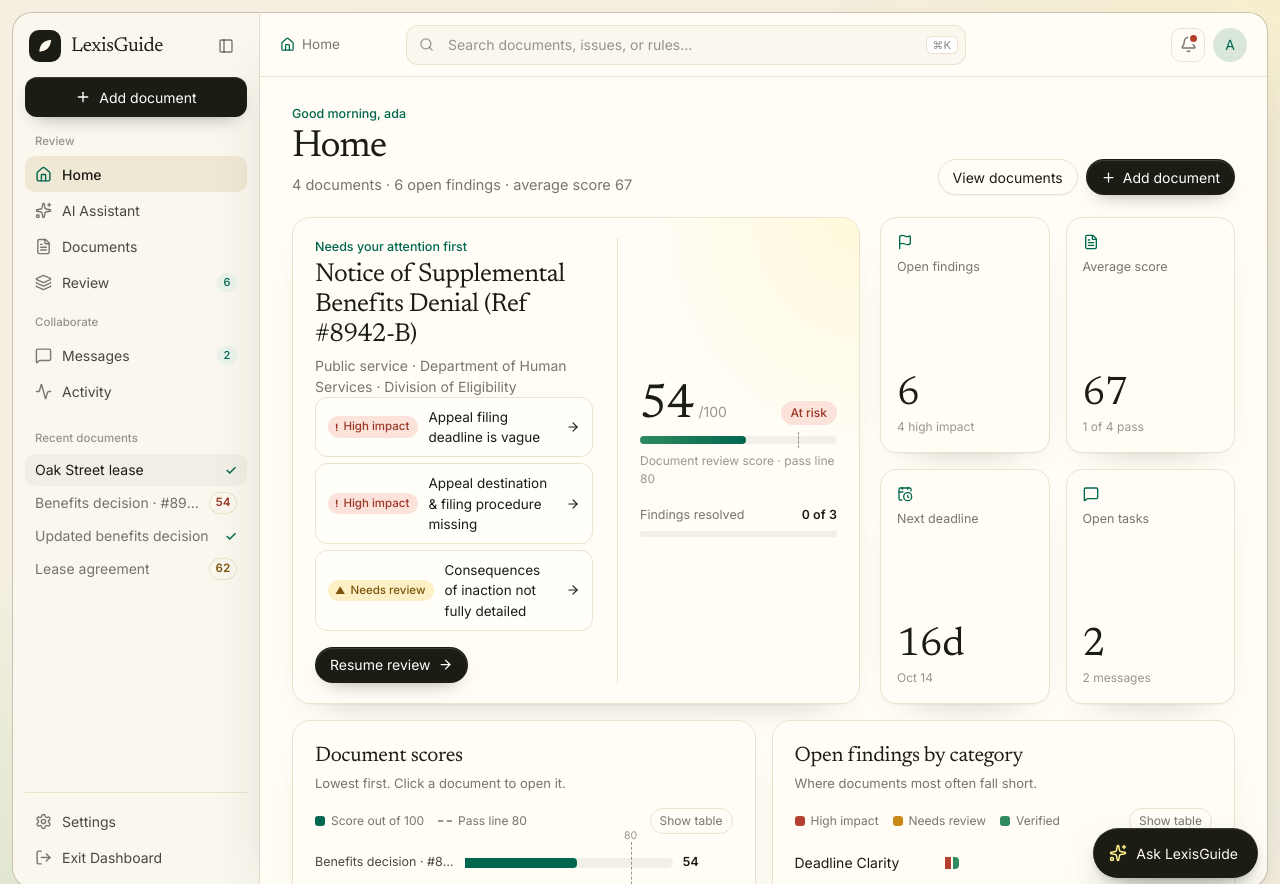
Saved workspace › reopens the workspace where the person left off
The image size is (1280, 884).
Click the button "Review 6" at (136, 282), box [25,264,247,300]
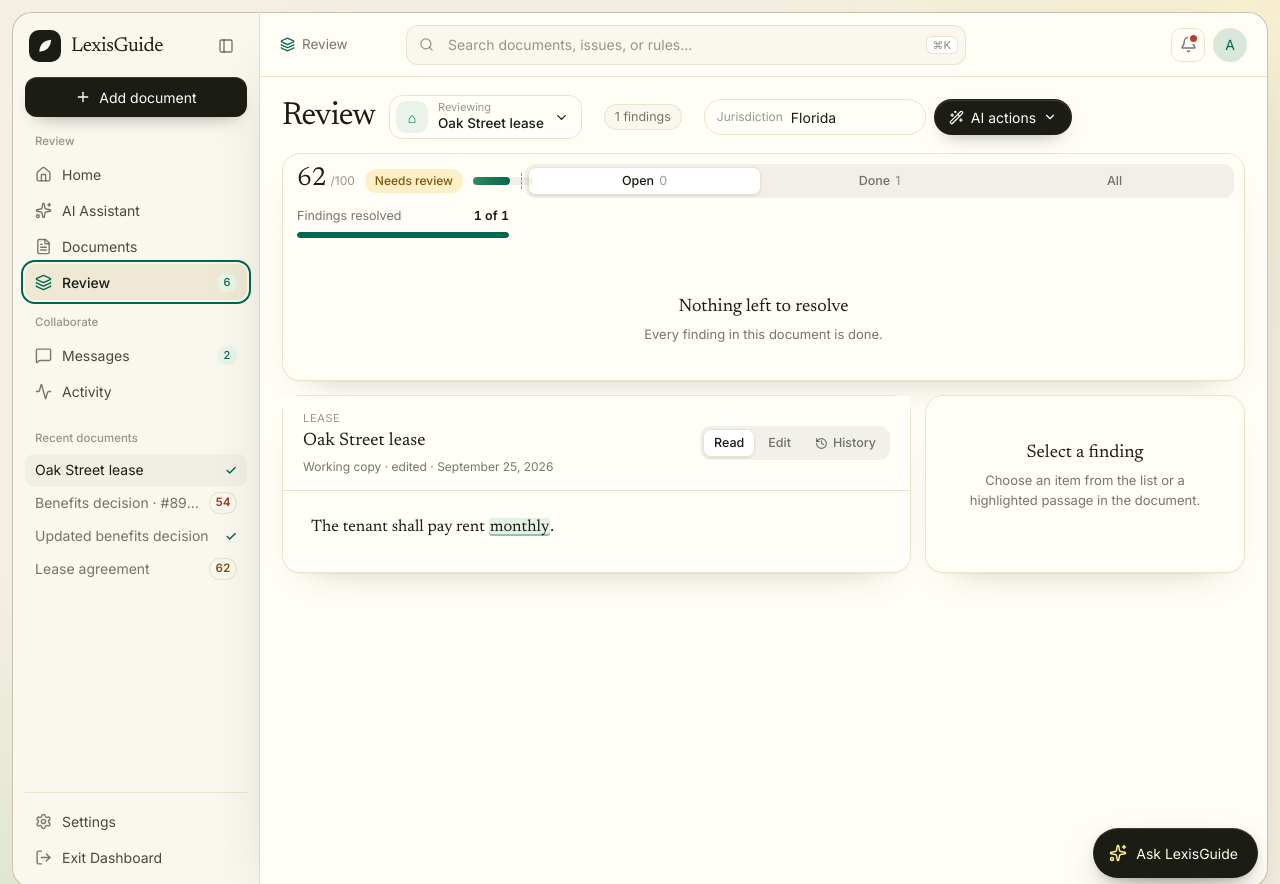
Result: the button "⌂ Reviewing Oak Street lease" is shown at [389,95,582,139]
Result: the field named "Legal jurisdiction" holds "Florida" at [791,106,921,128]
